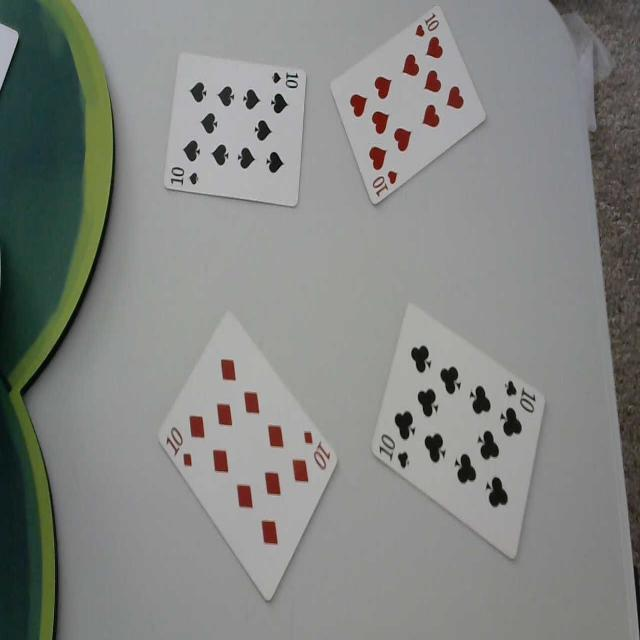10C: (377, 431, 411, 471), (504, 378, 537, 414)
10D: (302, 429, 332, 472), (164, 426, 193, 469)
10H: (370, 169, 400, 200), (412, 10, 440, 43)
10S: (168, 165, 200, 188), (269, 68, 300, 91)
